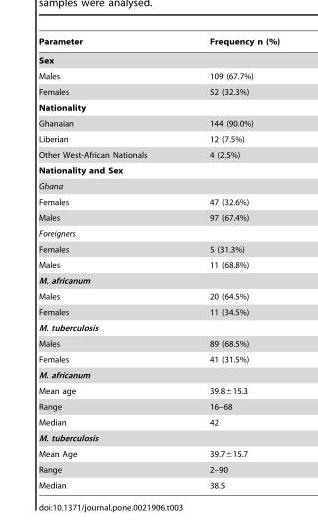table: (37, 36, 279, 489)
table column: (37, 36, 177, 489), (177, 36, 279, 489)
table column header: (37, 36, 279, 50)
table projected row header: (37, 50, 279, 68), (37, 99, 279, 115), (37, 162, 279, 178), (37, 178, 279, 194), (37, 225, 279, 241), (37, 272, 279, 288), (37, 319, 279, 335), (37, 367, 279, 382), (37, 430, 279, 445)
table row: (37, 50, 279, 68), (37, 83, 279, 99), (37, 99, 279, 115), (37, 115, 279, 131), (37, 146, 279, 162), (37, 162, 279, 178), (37, 178, 279, 194), (37, 209, 279, 225), (37, 225, 279, 241), (37, 256, 279, 272), (37, 272, 279, 288), (37, 288, 279, 304), (37, 319, 279, 335), (37, 335, 279, 351), (37, 351, 279, 367), (37, 382, 279, 398), (37, 398, 279, 414), (37, 414, 279, 430), (37, 445, 279, 461), (37, 461, 279, 477), (37, 68, 279, 83), (37, 131, 279, 146), (37, 194, 279, 209), (37, 241, 279, 256), (37, 304, 279, 319), (37, 367, 279, 382), (37, 430, 279, 445), (37, 36, 279, 50), (37, 477, 279, 489)
